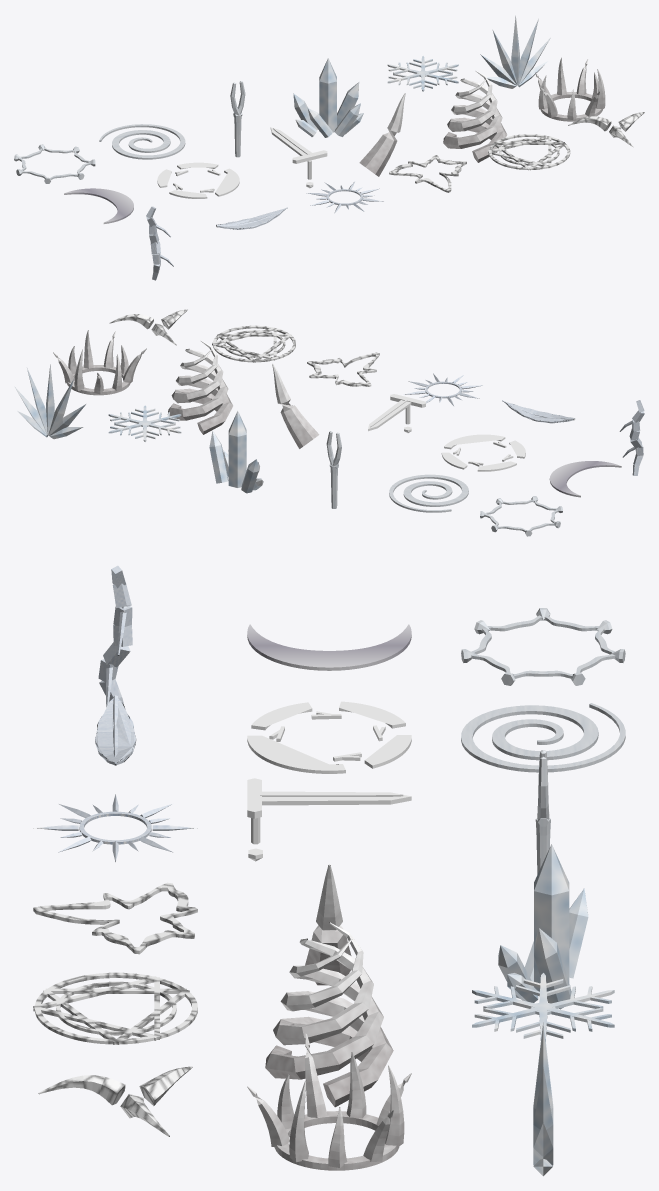
The model's file is BossVfxKit.glb.
3 views of the same model, one above another, from view 1: azimuth 30°, elevation 25°; view 2: azimuth 150°, elevation 25°; view 3: azimuth 270°, elevation 25° (orthographic). The views are drawn at different scales.
Visible parts, largest first — view 1: R_FireSpiral, I_CrystalCluster, R_FlameCrown, I_SpikeFan, W_SealGlyph, C_ResonanceSpiral, K_RuneRing, R_EmberSpike, I_Snowflake, K_Crescent, W_RiftTear, C_NoteRing (+6 smaller); view 2: R_FireSpiral, R_FlameCrown, I_CrystalCluster, I_SpikeFan, W_SealGlyph, C_ResonanceSpiral, K_RuneRing, R_EmberSpike, I_Snowflake, K_Crescent, W_RiftTear, K_SwordRain (+6 smaller); view 3: R_FireSpiral, R_FlameCrown, I_CrystalCluster, W_SealGlyph, C_ResonanceSpiral, K_RuneRing, I_Snowflake, K_Crescent, W_RiftTear, K_SwordRain, C_NoteRing, W_VoidClaw (+6 smaller).
Part boxes in pixels (<box>): R_FireSpiral: <box>443,70,507,162</box>; I_CrystalCluster: <box>293,58,363,137</box>; R_FlameCrown: <box>535,58,605,121</box>; I_SpikeFan: <box>480,15,550,88</box>; W_SealGlyph: <box>488,134,570,170</box>; C_ResonanceSpiral: <box>99,124,185,159</box>; K_RuneRing: <box>157,162,239,198</box>; R_EmberSpike: <box>359,93,405,176</box>; I_Snowflake: <box>387,56,458,91</box>; K_Crescent: <box>64,188,133,223</box>; W_RiftTear: <box>389,155,466,192</box>; C_NoteRing: <box>14,144,95,183</box>; R_FireSpiral: <box>167,340,232,434</box>; R_FlameCrown: <box>53,330,146,395</box>; I_CrystalCluster: <box>209,410,263,493</box>; I_SpikeFan: <box>14,364,85,439</box>; W_SealGlyph: <box>212,325,295,362</box>; C_ResonanceSpiral: <box>389,474,468,512</box>; K_RuneRing: <box>441,434,525,471</box>; R_EmberSpike: <box>272,363,319,448</box>; I_Snowflake: <box>108,405,181,441</box>; K_Crescent: <box>549,461,621,497</box>; W_RiftTear: <box>307,352,379,386</box>; K_SwordRain: <box>368,394,425,432</box>; R_FireSpiral: <box>265,922,393,1107</box>; R_FlameCrown: <box>247,1033,411,1170</box>; I_CrystalCluster: <box>498,844,588,1009</box>; W_SealGlyph: <box>33,972,197,1044</box>; C_ResonanceSpiral: <box>461,703,625,772</box>; K_RuneRing: <box>247,701,411,773</box>; I_Snowflake: <box>472,973,614,1041</box>; K_Crescent: <box>247,624,411,670</box>; W_RiftTear: <box>33,882,197,954</box>; K_SwordRain: <box>247,778,411,861</box>; C_NoteRing: <box>461,608,625,685</box>; W_VoidClaw: <box>38,1066,192,1136</box>.
Bounding box in the file's own units: 74.87 × 10 × 36.
1 material, 1 textured.
